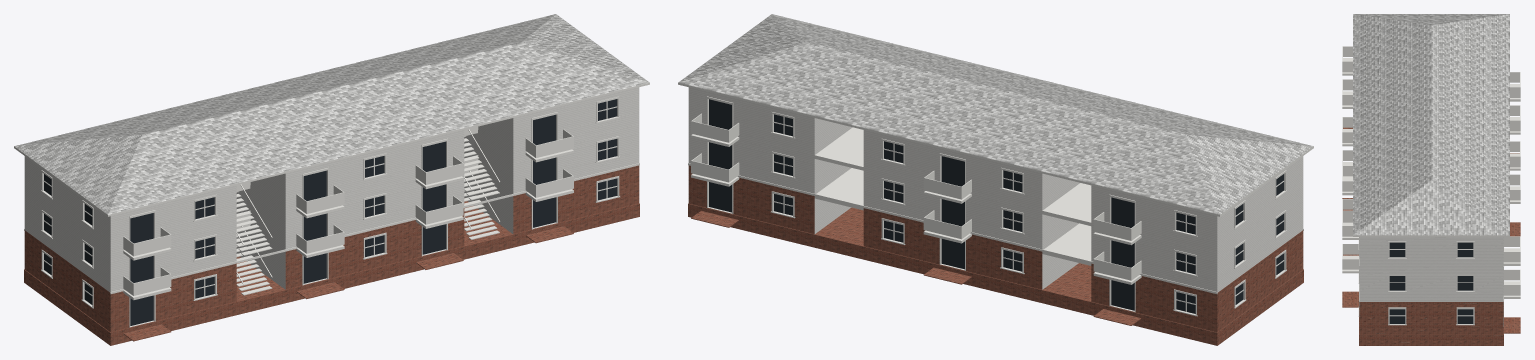
File: apartments-garden.glb
3 renders of one model, left to right at view 1: azimuth 30°, elevation 25°; view 2: azimuth 150°, elevation 25°; view 3: azimuth 270°, elevation 25°, orthographic. The views are drawn at different scales.
Parts seen in each view (by area): view 1: apartments-garden; view 2: apartments-garden; view 3: apartments-garden.
Boxes of the visible parts, x1,y1,x2,y2 form: apartments-garden: [14, 14, 649, 345]; apartments-garden: [678, 14, 1313, 345]; apartments-garden: [1342, 14, 1520, 345].
Size of the model in its own units: 40 by 11.37 by 13.6.
6 materials, 3 textured.
